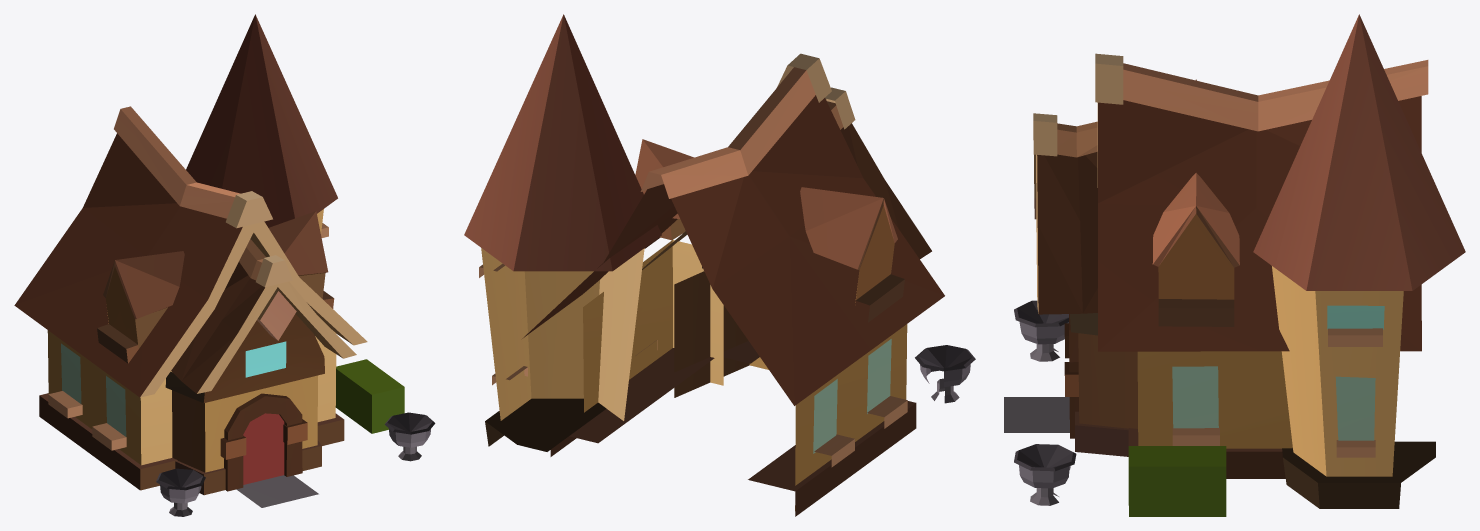
File: building35.fbx
3 views of the same model, side by side, from view 1: azimuth 30°, elevation 25°; view 2: azimuth 150°, elevation 25°; view 3: azimuth 270°, elevation 25° (orthographic). The views are drawn at different scales.
Parts seen in each view (by area): view 1: building35; view 2: building35; view 3: building35.
Part boxes in pixels (box(x1,y1,x2,y2)): building35: box(14, 14, 435, 516); building35: box(464, 14, 975, 516); building35: box(1004, 14, 1465, 516).
Bounding box in the file's own units: 1.96 × 2.41 × 2.17.
Materials: 1 (1 with a texture image).
